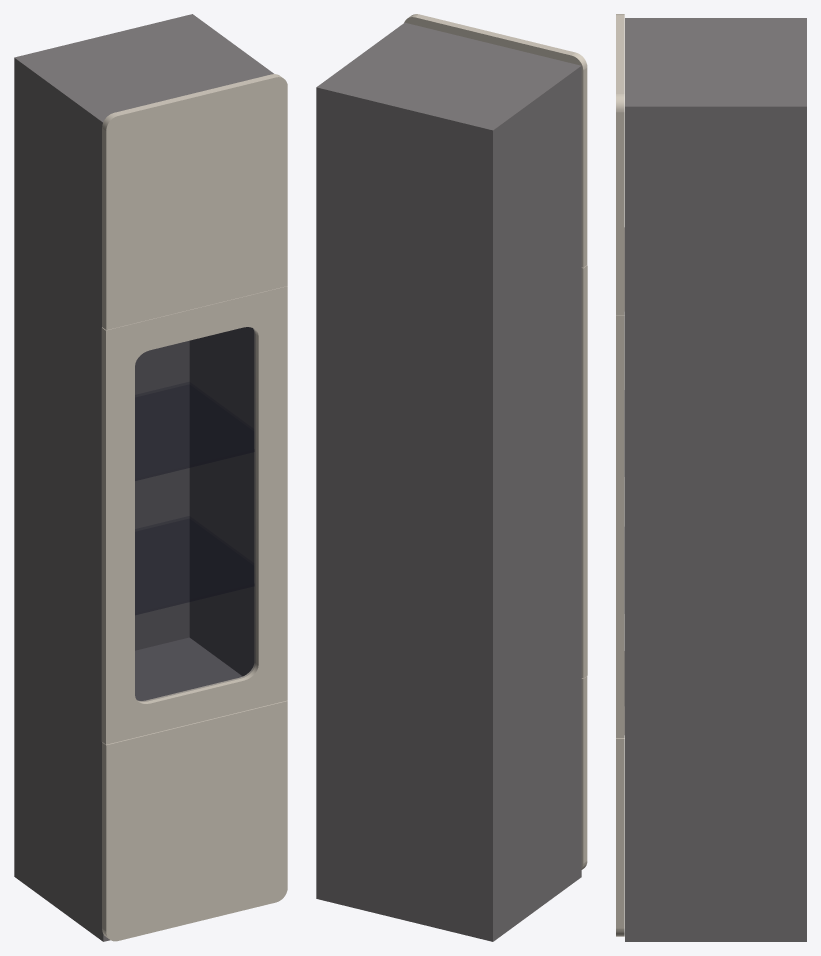
Rendered from 2pir_witryna_waska.obj.
3 renders of one model, left to right at view 1: azimuth 30°, elevation 25°; view 2: azimuth 150°, elevation 25°; view 3: azimuth 270°, elevation 25°, orthographic. The views are drawn at different scales.
Visible parts, largest first — view 1: Rectangle11, Rectangle10, Plane003, Rectangle012, Plane005, Plane004, Plane001; view 2: Rectangle11, Rectangle10, Rectangle012; view 3: Rectangle11, Rectangle10, Rectangle012.
Part boxes in pixels (box(x1,y1,x2,y2)): Rectangle11: box(14, 14, 273, 941); Rectangle10: box(102, 74, 287, 941); Plane003: box(135, 327, 255, 701); Rectangle012: box(101, 286, 287, 744); Plane005: box(135, 518, 254, 614); Plane004: box(135, 384, 254, 480); Plane001: box(135, 637, 242, 700); Rectangle11: box(316, 22, 581, 941); Rectangle10: box(404, 14, 587, 869); Rectangle012: box(581, 265, 587, 678); Rectangle11: box(625, 18, 806, 941); Rectangle10: box(616, 14, 624, 936); Rectangle012: box(616, 315, 624, 737).
Bounding box in the file's own units: 49.98 × 217 × 44.59.
